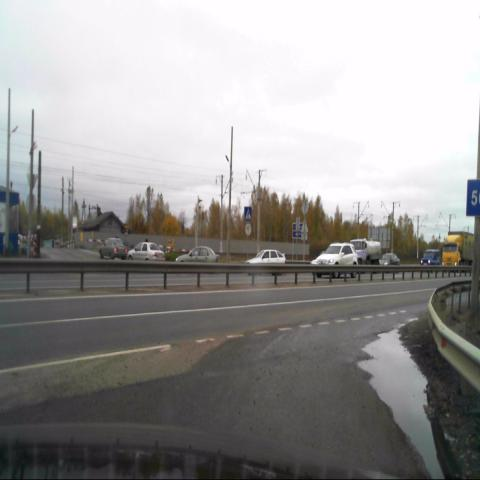3_13: (244, 223, 252, 237)
5_19_1: (244, 206, 252, 221)
